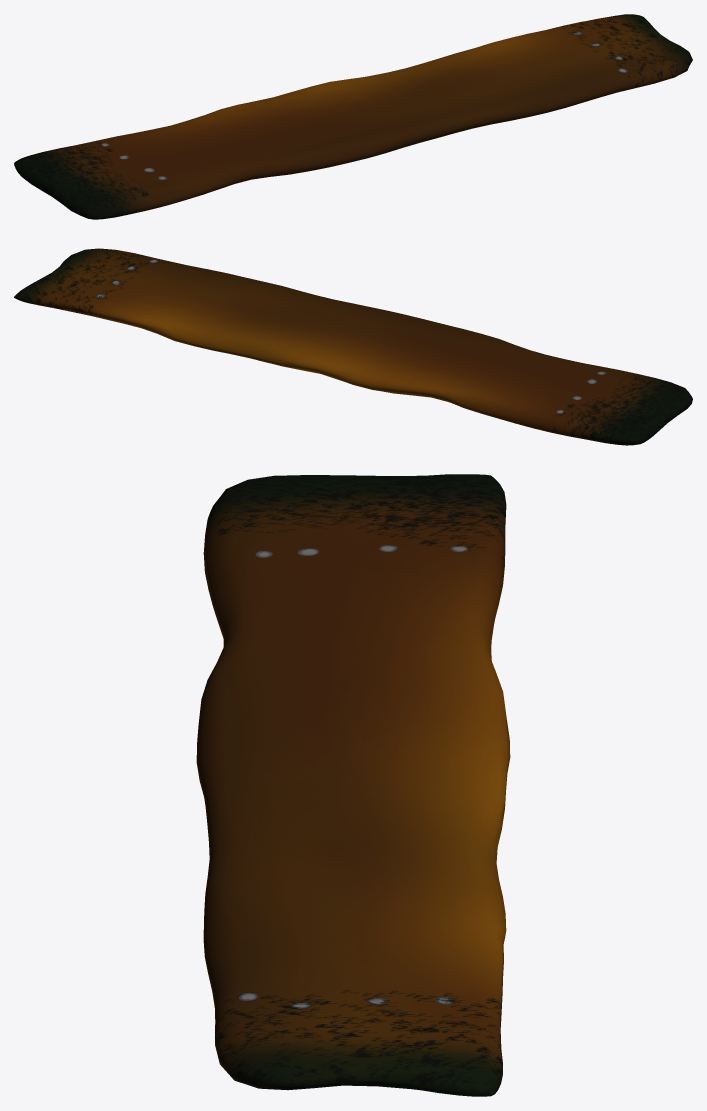
Rendered from board_2.fbx.
The picture shows the model from 3 angles, top to bottom: view 1: azimuth 30°, elevation 25°; view 2: azimuth 150°, elevation 25°; view 3: azimuth 270°, elevation 25°; orthographic projection. The views are drawn at different scales.
Parts seen in each view (by area): view 1: PM3D_Cube3D_2; view 2: PM3D_Cube3D_2; view 3: PM3D_Cube3D_2.
Part boxes in pixels (x1,y1,x2,y2): PM3D_Cube3D_2: [14, 14, 692, 219]; PM3D_Cube3D_2: [14, 248, 692, 445]; PM3D_Cube3D_2: [196, 474, 510, 1096].
Size of the model in its own units: 4.55 by 0.1272 by 0.9912.
